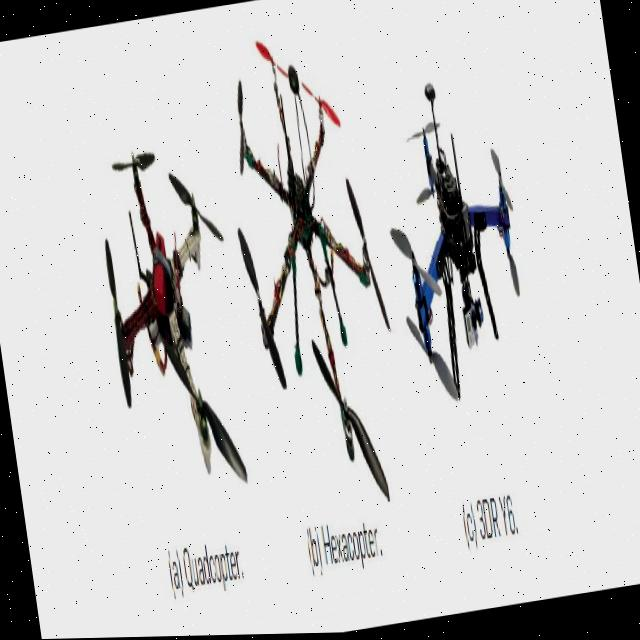drone: (206, 4, 428, 551), (67, 86, 274, 565), (367, 48, 549, 430)
